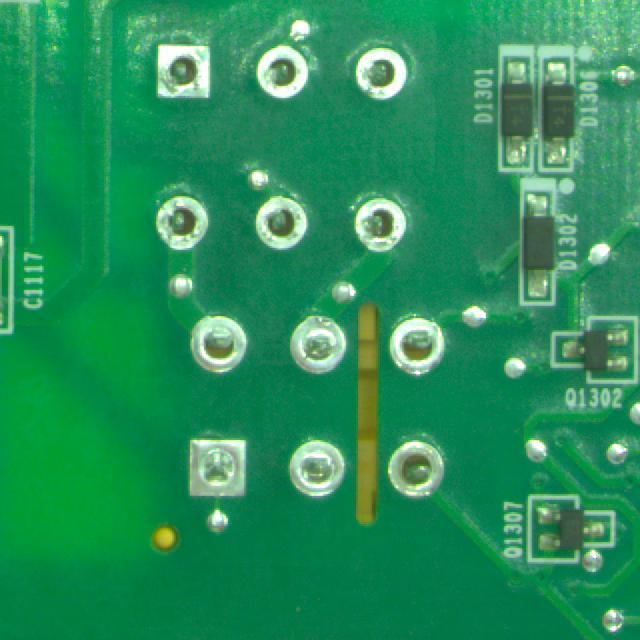Insufficient solder: (149, 37, 221, 107), (343, 40, 417, 107), (385, 434, 456, 503), (180, 439, 256, 501), (191, 307, 248, 384), (251, 41, 311, 101), (354, 191, 410, 255), (387, 311, 443, 374), (286, 317, 350, 372), (290, 439, 347, 497), (152, 194, 212, 249), (256, 190, 309, 251)
